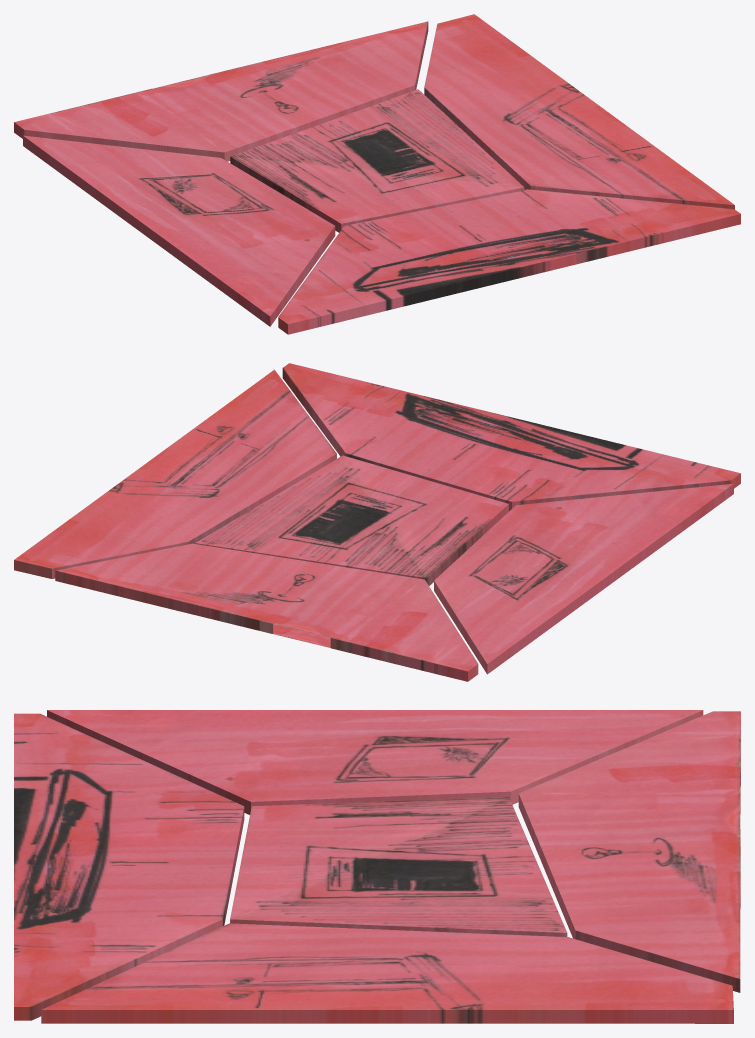
Rendered from first-state-3d.obj.
The picture shows the model from 3 angles, top to bottom: view 1: azimuth 30°, elevation 25°; view 2: azimuth 150°, elevation 25°; view 3: azimuth 270°, elevation 25°; orthographic projection. The views are drawn at different scales.
Parts seen in each view (by area): view 1: Cube.003, Cube.002, Cube.004, Cube.005, Cube; view 2: Cube.003, Cube.005, Cube.002, Cube.004, Cube; view 3: Cube.002, Cube.003, Cube.004, Cube.005, Cube.
Part boxes in pixels (left/top/right/bottom): Cube.003: left=278, top=189, right=740, bottom=334; Cube.002: left=424, top=14, right=734, bottom=208; Cube.004: left=23, top=135, right=335, bottom=326; Cube.005: left=14, top=21, right=428, bottom=161; Cube: left=230, top=89, right=524, bottom=232; Cube.003: left=282, top=363, right=740, bottom=510; Cube.005: left=55, top=543, right=478, bottom=681; Cube.002: left=14, top=369, right=336, bottom=578; Cube.004: left=434, top=483, right=733, bottom=674; Cube: left=195, top=455, right=508, bottom=585; Cube.002: left=41, top=923, right=733, bottom=1023; Cube.003: left=14, top=713, right=244, bottom=1020; Cube.004: left=47, top=710, right=703, bottom=814; Cube.005: left=518, top=711, right=740, bottom=992; Cube: left=230, top=797, right=567, bottom=936.
Bounding box in the file's own units: 4.93 × 0.1237 × 5.05.
1 material, 1 textured.
